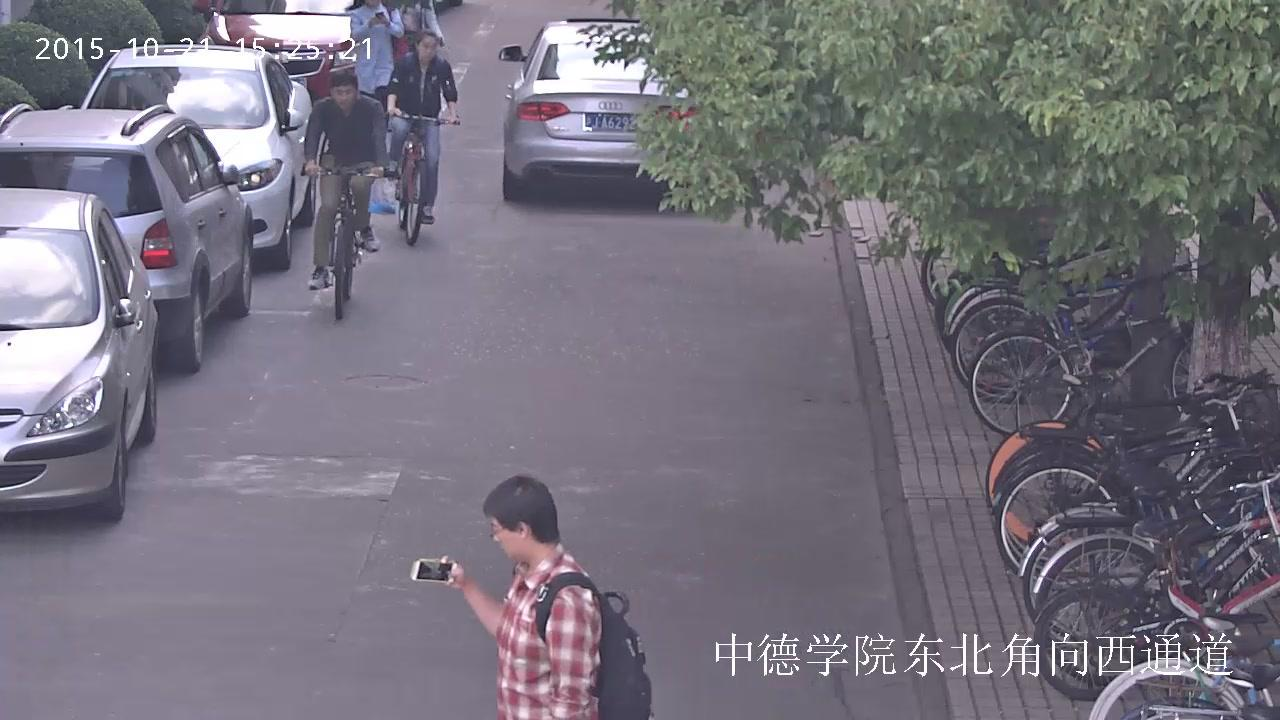face: (488, 512, 516, 559), (334, 86, 354, 109), (420, 37, 436, 61), (365, 0, 381, 6)
